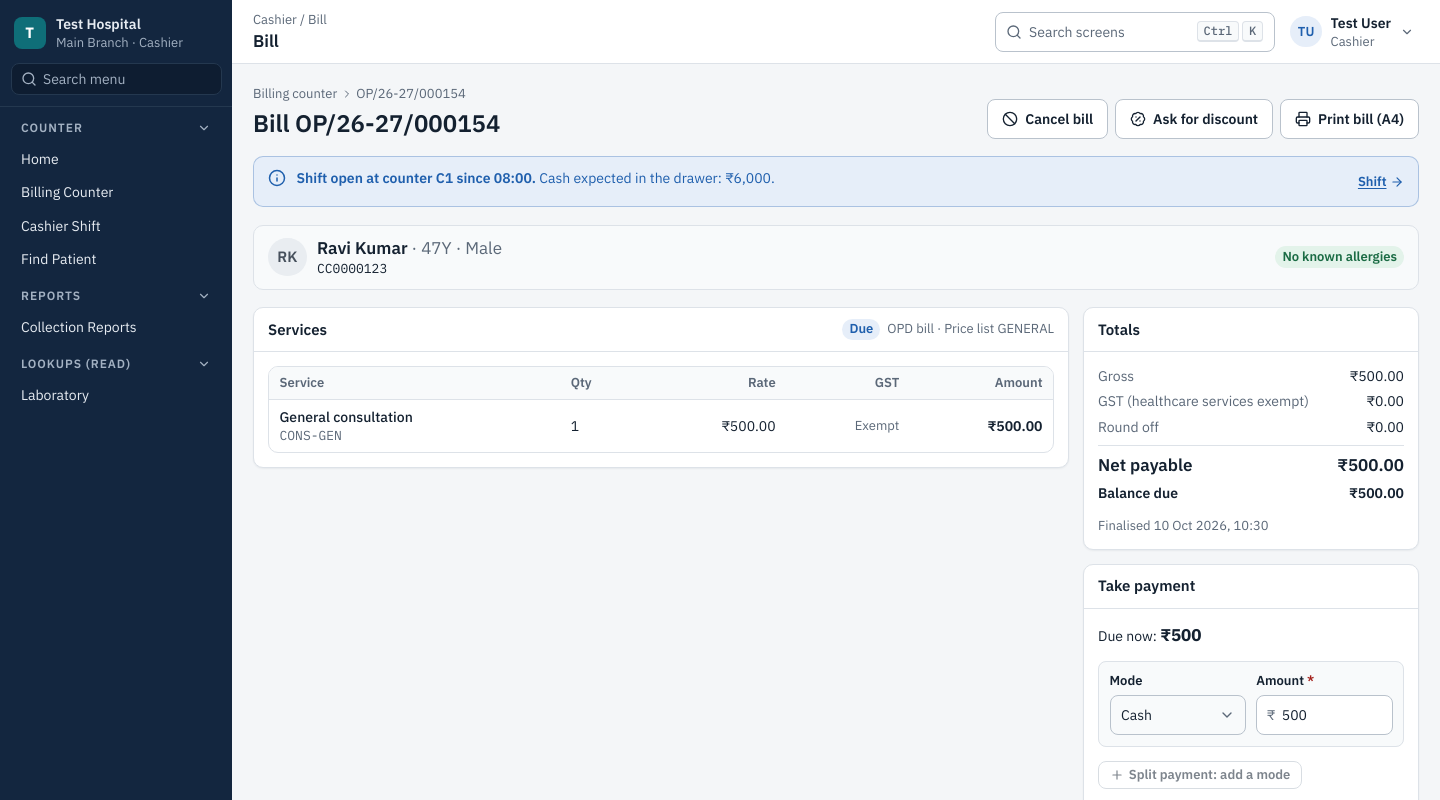
Test: Bill › asks for a reason before a reprint (DUPLICATE)
Click the button "Print bill (A4)".
click(1350, 118)  # box [1280, 98, 1419, 138]
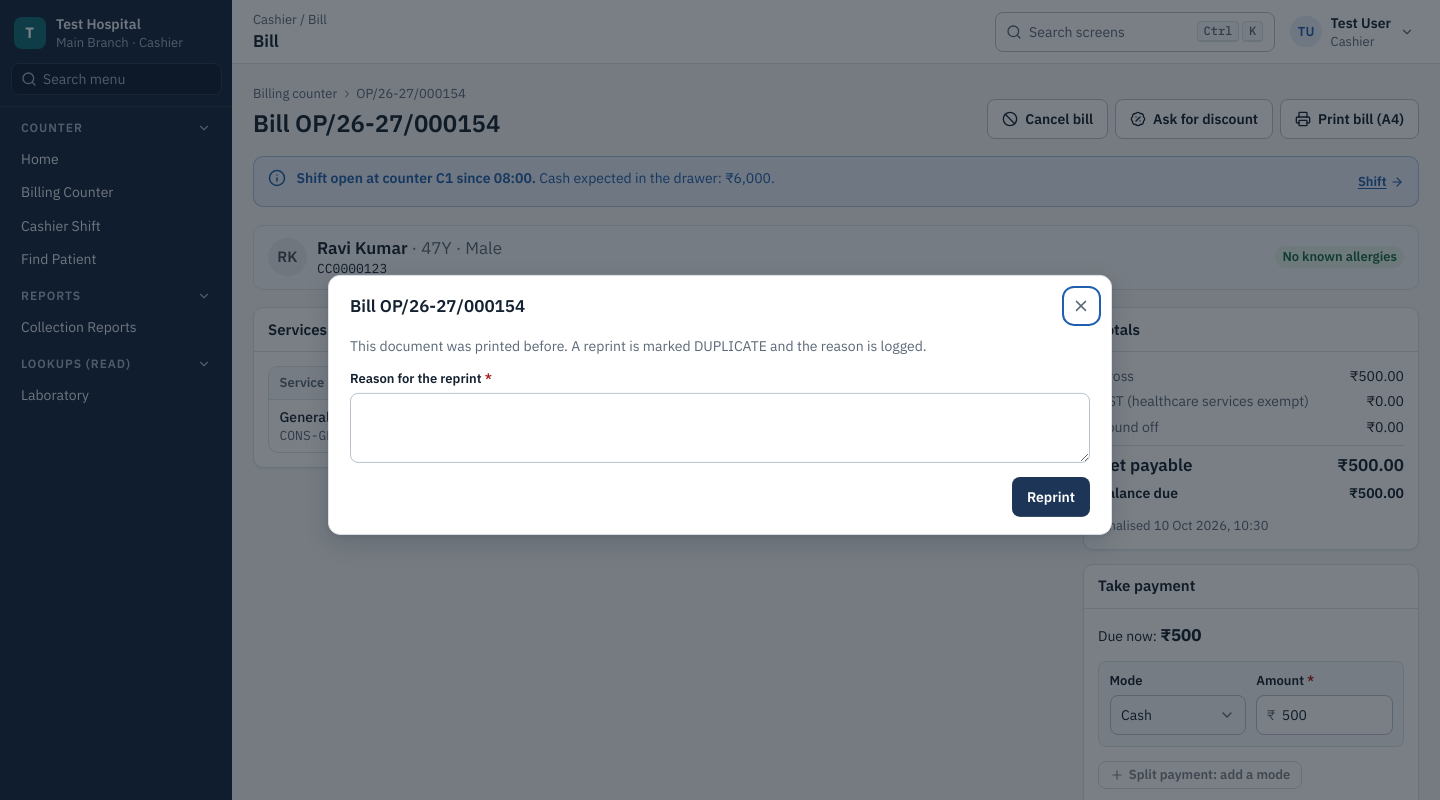
Now the text "marked DUPLICATE" is shown, box [350, 336, 927, 354]
Click the button "Reprint".
click(1051, 497)  # box [1012, 477, 1090, 517]
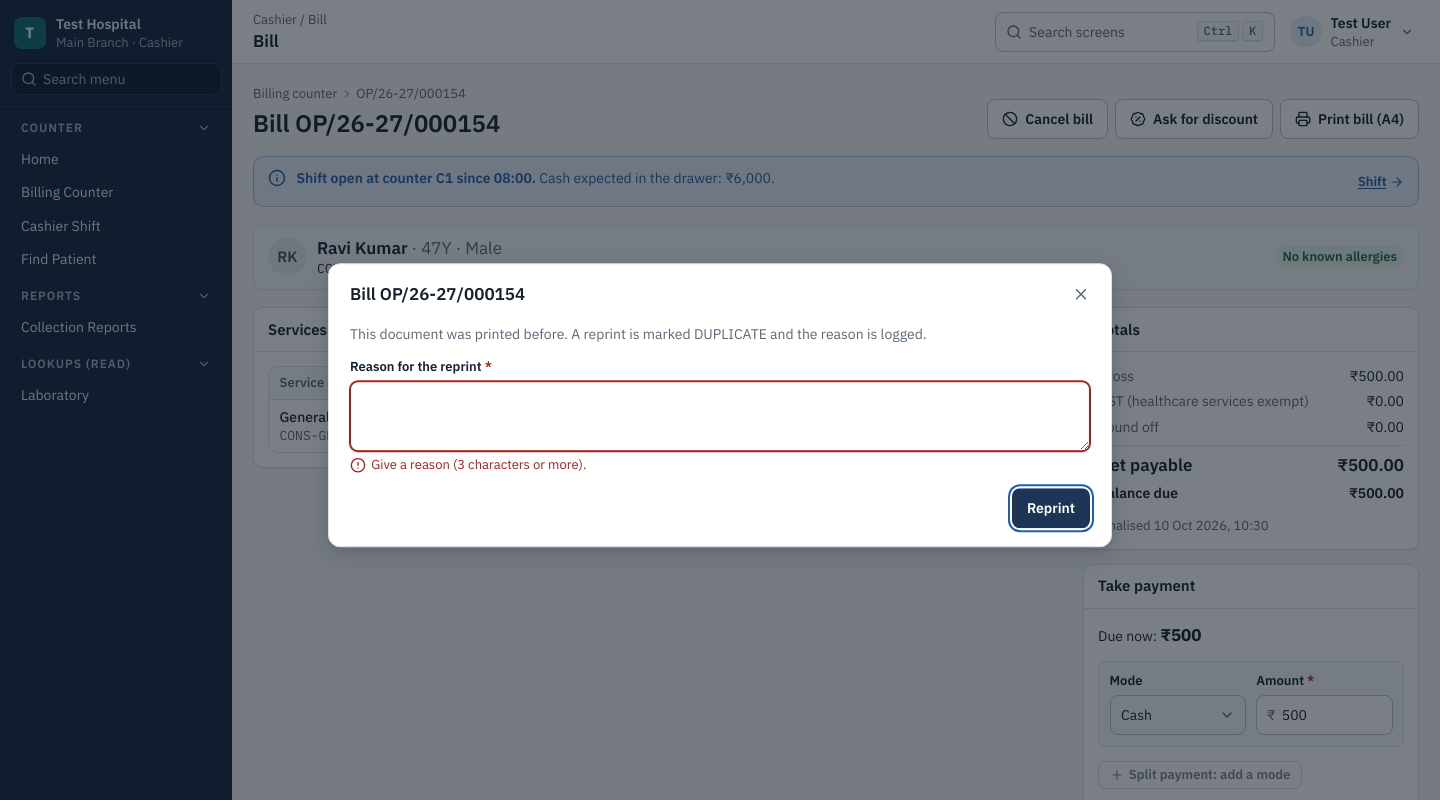
Now the text "Give a reason (3 characters or more)." is shown, box [371, 456, 586, 474]
